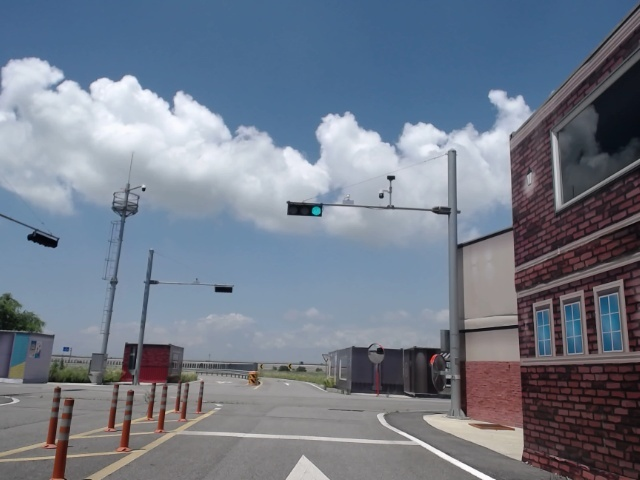green_3: (287, 203, 321, 216)
